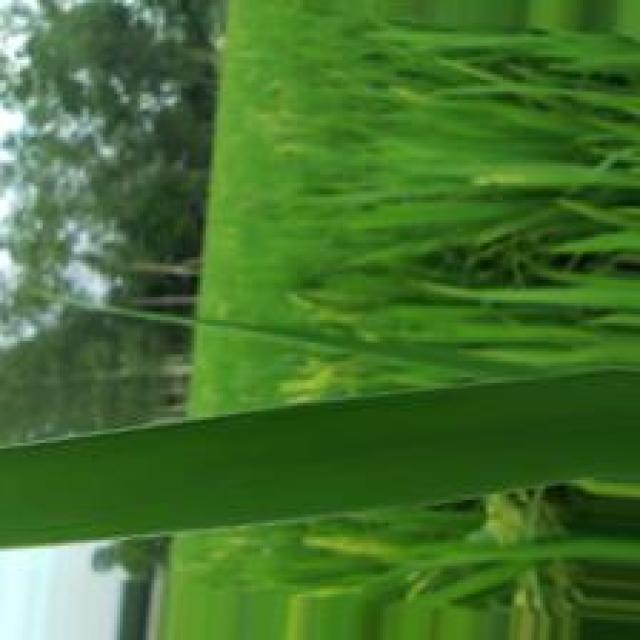HealthyLeaf: (0, 373, 640, 554)
